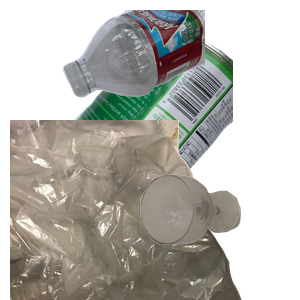glass: (138, 172, 300, 300)
metal: (60, 23, 300, 203)
plastic: (60, 10, 300, 100)
trash: (10, 120, 244, 300)
